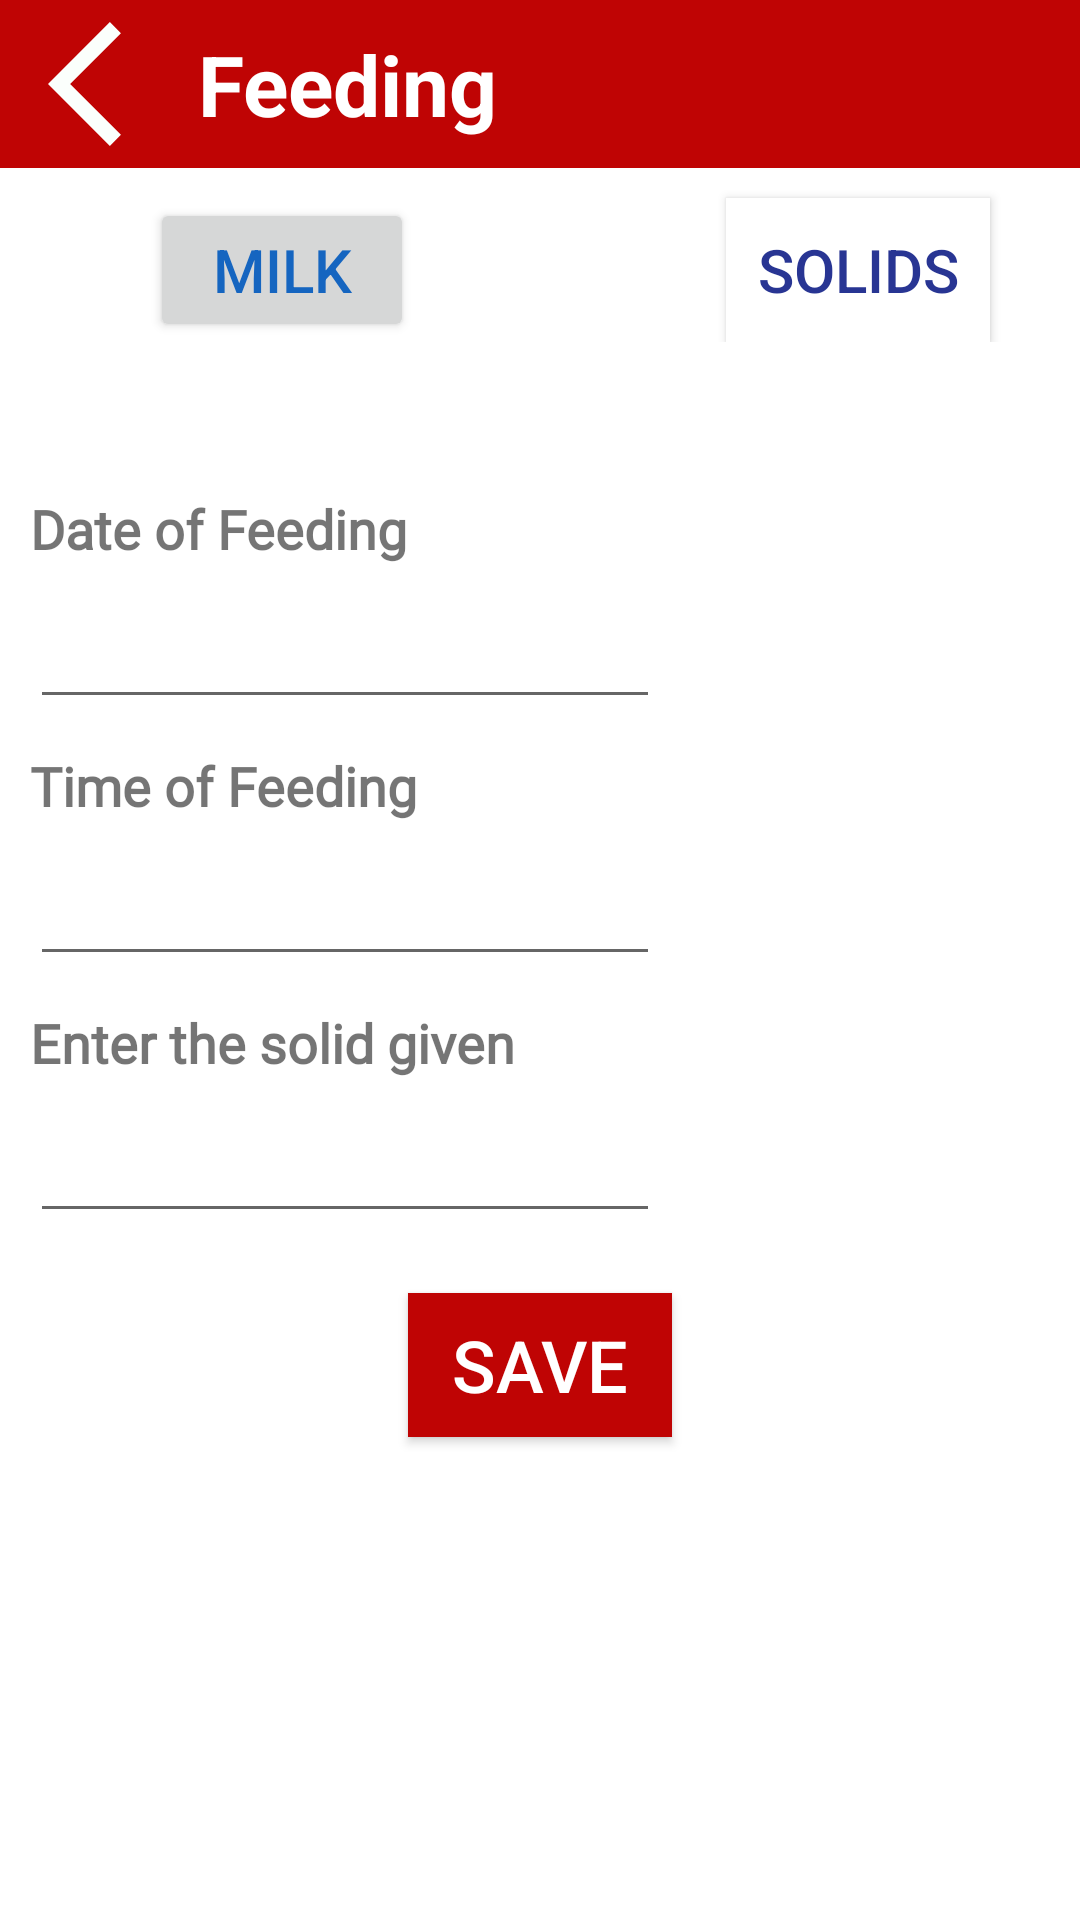

Where to tap for icons on this 1080px×1920px app screen, as (x,y):
arrow back: (84,84)
